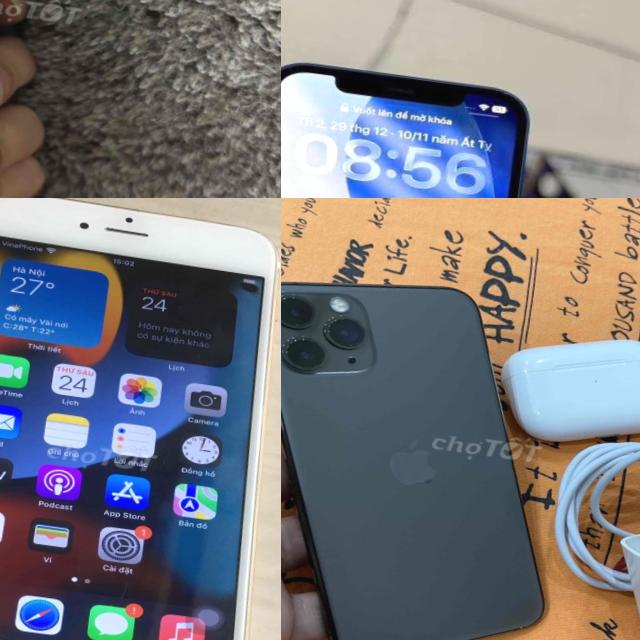gen_11: (281, 258, 587, 640)
gen_12_13: (281, 51, 544, 198)
gen_15: (0, 0, 67, 198)
gen_6: (0, 198, 281, 640)
